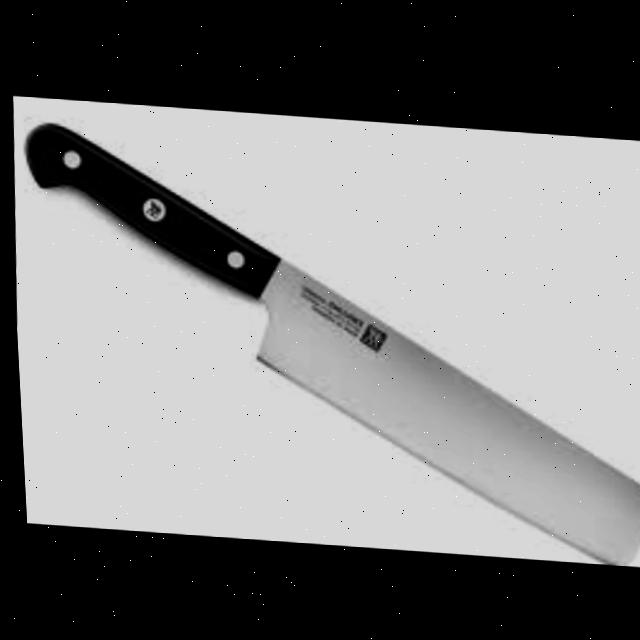knife: (10, 118, 640, 564)
